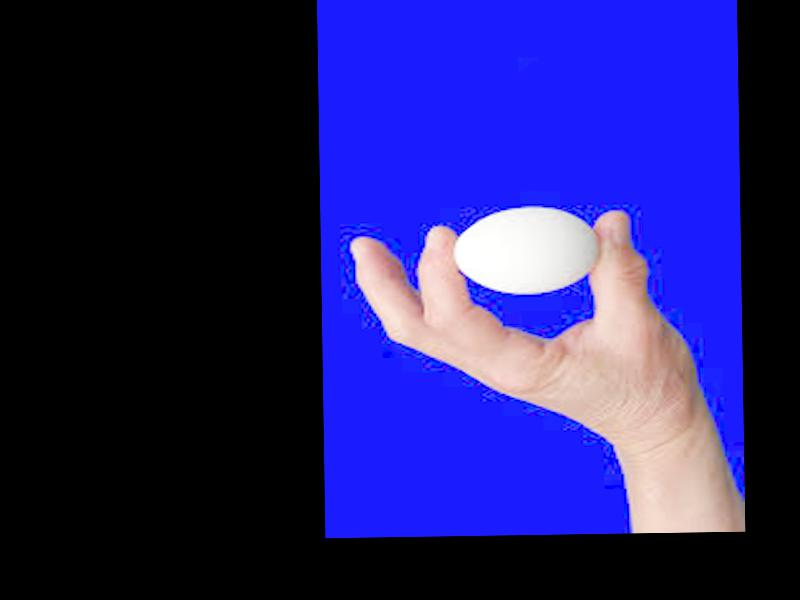Eggs: (450, 206, 599, 295)
